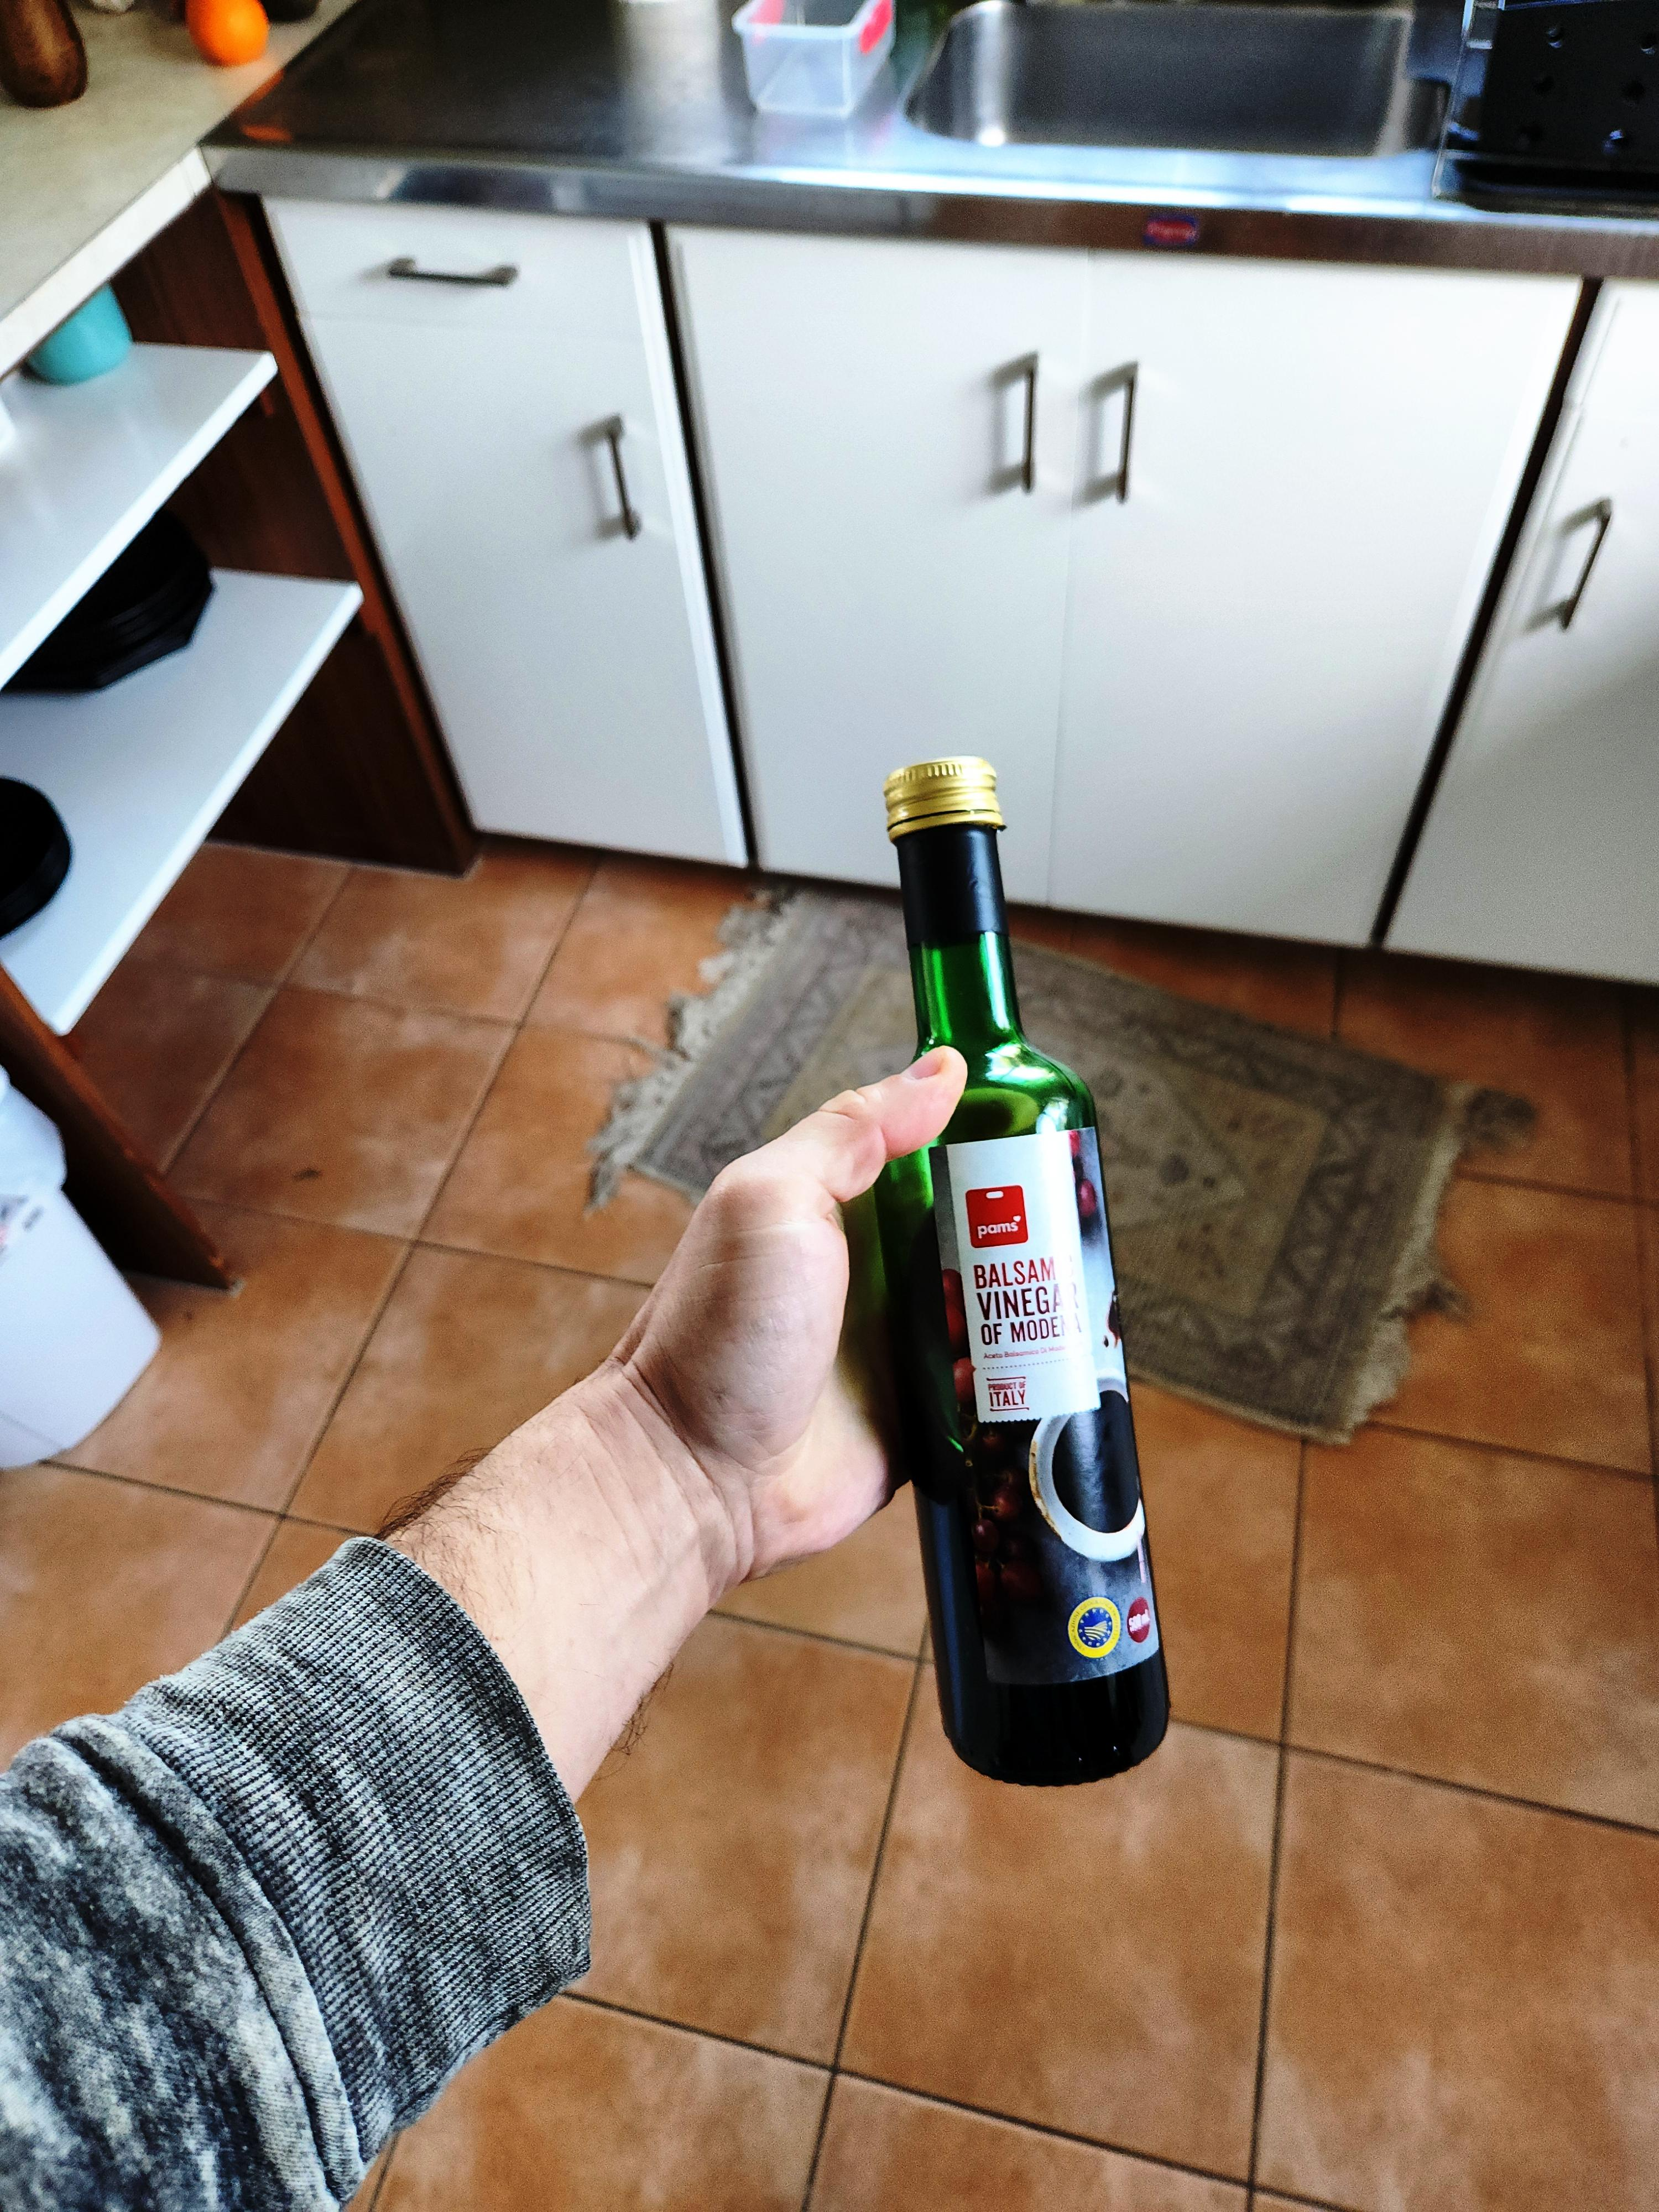balsamic vinegar: (660, 1001, 880, 2212)
